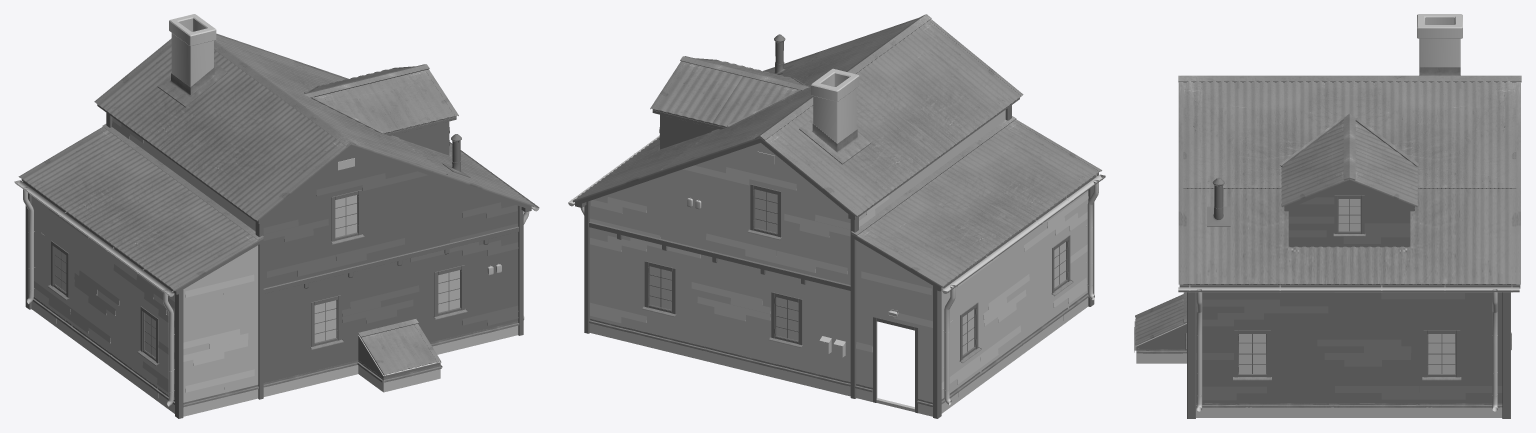
The model's file is Hut2.fbx.
The picture shows the model from 3 angles, left to right: view 1: azimuth 30°, elevation 25°; view 2: azimuth 150°, elevation 25°; view 3: azimuth 270°, elevation 25°; orthographic projection. The views are drawn at different scales.
Visible parts, largest first — view 1: SM_Hut2_HutWall_04_LOD0, SM_Hut2_HutWall_01_LOD0, SM_Hut2_HutRoof_01_LOD0, SM_Hut2_HutTop_01_LOD0, SM_Hut2_Basement_LOD0, SM_Hut2_HutWall_02_LOD0; view 2: SM_Hut2_HutWall_04_LOD0, SM_Hut2_HutWall_03_LOD0, SM_Hut2_HutRoof_01_LOD0, SM_Hut2_HutTop_01_LOD0, SM_Hut2_HutWall_02_LOD0; view 3: SM_Hut2_HutRoof_01_LOD0, SM_Hut2_HutWall_02_LOD0, SM_Hut2_HutTop_01_LOD0, SM_Hut2_Basement_LOD0.
Part boxes in pixels (x1=…): SM_Hut2_HutWall_04_LOD0: x1=14, y1=113, x2=263, y2=418; SM_Hut2_HutWall_01_LOD0: x1=263, y1=149, x2=519, y2=396; SM_Hut2_HutRoof_01_LOD0: x1=94, y1=14, x2=539, y2=223; SM_Hut2_HutTop_01_LOD0: x1=303, y1=64, x2=458, y2=155; SM_Hut2_Basement_LOD0: x1=357, y1=319, x2=442, y2=392; SM_Hut2_HutWall_02_LOD0: x1=518, y1=206, x2=529, y2=335; SM_Hut2_HutWall_04_LOD0: x1=850, y1=105, x2=1105, y2=418; SM_Hut2_HutWall_03_LOD0: x1=589, y1=143, x2=850, y2=396; SM_Hut2_HutRoof_01_LOD0: x1=568, y1=14, x2=1023, y2=219; SM_Hut2_HutTop_01_LOD0: x1=650, y1=56, x2=809, y2=149; SM_Hut2_HutWall_02_LOD0: x1=580, y1=201, x2=589, y2=333; SM_Hut2_HutRoof_01_LOD0: x1=1178, y1=14, x2=1521, y2=292; SM_Hut2_HutWall_02_LOD0: x1=1187, y1=289, x2=1510, y2=418; SM_Hut2_HutTop_01_LOD0: x1=1279, y1=113, x2=1419, y2=247; SM_Hut2_Basement_LOD0: x1=1134, y1=292, x2=1186, y2=363.
Size of what is drawn, in the model's own units: 1132 by 806 by 977.
